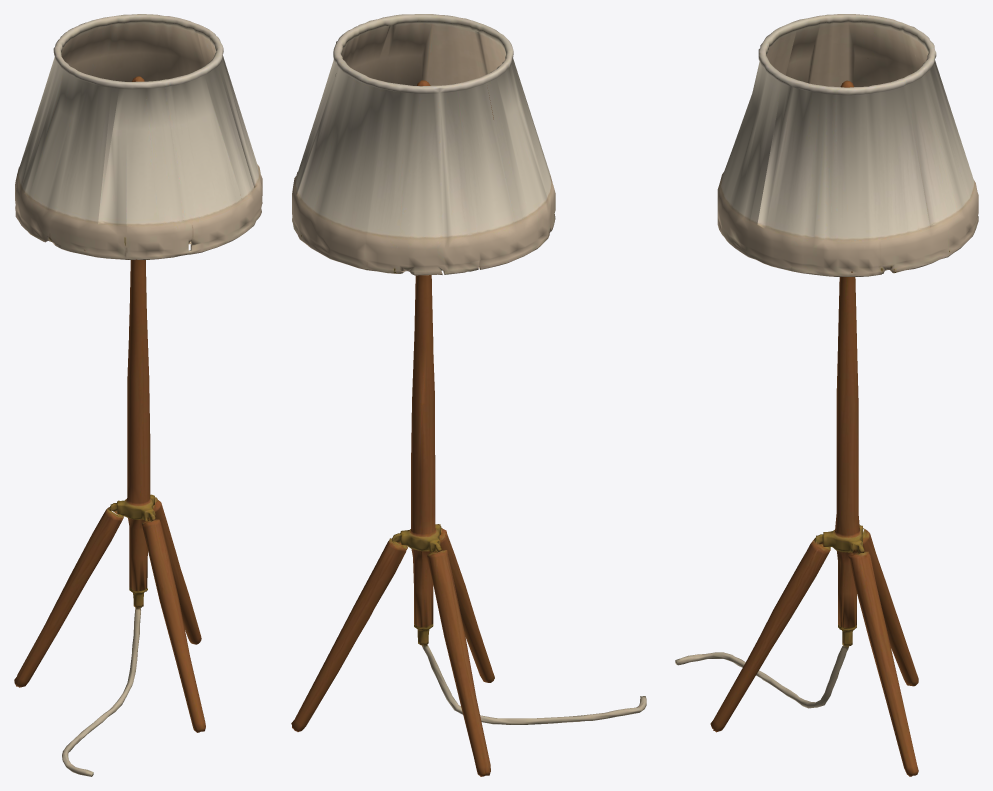
The model's file is lamp.glb.
3 renders of one model, left to right at view 1: azimuth 30°, elevation 25°; view 2: azimuth 150°, elevation 25°; view 3: azimuth 270°, elevation 25°, orthographic. The views are drawn at different scales.
Visible parts, largest first — view 1: tripo_node_7a1c7d95-1853-4720-a6b7-b8115; view 2: tripo_node_7a1c7d95-1853-4720-a6b7-b8115; view 3: tripo_node_7a1c7d95-1853-4720-a6b7-b8115.
Part boxes in pixels (bbox=[...]): tripo_node_7a1c7d95-1853-4720-a6b7-b8115: bbox=[14, 14, 262, 776]; tripo_node_7a1c7d95-1853-4720-a6b7-b8115: bbox=[291, 14, 646, 776]; tripo_node_7a1c7d95-1853-4720-a6b7-b8115: bbox=[675, 14, 978, 776].
Bounding box in the file's own units: 0.4043 × 0.998 × 0.4043.
1 material, 1 textured.
